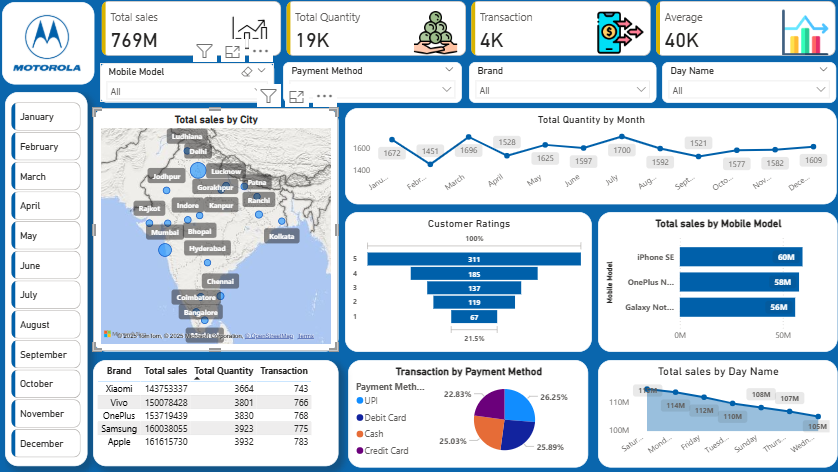

What the dashboard file says about the page in this screenshot:
{"tool":"powerbi","page":{"name":"Mobilesalesdashboard","canvas":[1280,720],"ordinal":0},"visuals":[{"type":"shape","box":[8,7,139.7,125.3],"z":0},{"type":"image","box":[10.1,13,129.6,112.3],"z":1000},{"type":"shape","box":[7.6,143.9,128.8,566.7],"z":2000},{"type":"advancedSlicerVisual","fields":{"Values":["Sales data.Date.Variation.Date Hierarchy.Month"]},"box":[15.2,157.6,115.2,548.5],"z":3000},{"type":"cardVisual","fields":{"Data":["Sales data.Total sales","Sales data.Total Quantity","Sales data.Transaction","Sales data.Average"]},"box":[155,6,1121.8,83.5],"z":4000},{"type":"map","fields":{"Category":["Sales data.City"],"Size":["Sales data.Total sales"]},"box":[145.4,168.5,371.5,368.6],"z":5000},{"type":"lineChart","fields":{"Category":["Sales data.Date.Variation.Date Hierarchy.Month","Sales data.Date.Variation.Date Hierarchy.Day"],"Y":["Sales data.Total Quantity"]},"box":[527,168,745,146],"z":6000},{"type":"clusteredBarChart","fields":{"Category":["Sales data.Mobile Model"],"Y":["Sales data.Total sales"]},"box":[910.1,325.4,362.9,211.7],"z":7000},{"type":"pieChart","fields":{"Category":["Sales data.Payment Method"],"Y":["Sales data.Transaction"]},"box":[531.4,550.1,364.3,162.7],"z":8000},{"type":"funnel","title":"Customer Ratings ","fields":{"Category":["Sales data.Customer Ratings"],"Y":["CountNonNull(Sales data.Customer Ratings)"]},"box":[527,325.4,374.4,211.7],"z":9000},{"type":"areaChart","fields":{"Category":["Sales data.Day Name"],"Y":["Sales data.Total sales"]},"box":[910.1,550.1,362.9,162.7],"z":10000},{"type":"tableEx","fields":{"Values":["Sales data.Brand","Sales data.Total sales","Sales data.Total Quantity","Sales data.Transaction"]},"box":[145.4,550.1,371.5,161.3],"z":11000},{"type":"slicer","fields":{"Values":["Sales data.Mobile Model"]},"box":[155.5,99.4,263.5,60.5],"z":12000},{"type":"slicer","fields":{"Values":["Sales data.Payment Method"]},"box":[433.4,97.9,270.7,61.9],"z":13000},{"type":"slicer","fields":{"Values":["Sales data.Brand"]},"box":[715.7,97.9,283.7,61.9],"z":14000},{"type":"slicer","fields":{"Values":["Sales data.Day Name"]},"box":[1008,97.9,263.5,61.9],"z":15000}]}

Visuals, with their boxes in screenshot pixels (x1, y1, x2, y2), scaled from the page's 1280x720 canvas onto the 838x472 screenshot:
shape: box=[5, 5, 97, 87]
image: box=[7, 9, 91, 82]
shape: box=[5, 94, 89, 466]
advancedSlicerVisual - Sales data.Date.Variation.Date Hierarchy.Month: box=[10, 103, 85, 463]
cardVisual - Sales data.Total sales x Sales data.Total Quantity: box=[101, 4, 836, 59]
map - Sales data.City x Sales data.Total sales: box=[95, 110, 338, 352]
lineChart - Sales data.Date.Variation.Date Hierarchy.Month x Sales data.Date.Variation.Date Hierarchy.Day: box=[345, 110, 833, 206]
clusteredBarChart - Sales data.Mobile Model x Sales data.Total sales: box=[596, 213, 833, 352]
pieChart - Sales data.Payment Method x Sales data.Transaction: box=[348, 361, 586, 467]
"Customer Ratings " funnel: box=[345, 213, 590, 352]
areaChart - Sales data.Day Name x Sales data.Total sales: box=[596, 361, 833, 467]
tableEx - Sales data.Brand x Sales data.Total sales: box=[95, 361, 338, 466]
slicer - Sales data.Mobile Model: box=[102, 65, 274, 105]
slicer - Sales data.Payment Method: box=[284, 64, 461, 105]
slicer - Sales data.Brand: box=[469, 64, 654, 105]
slicer - Sales data.Day Name: box=[660, 64, 832, 105]
